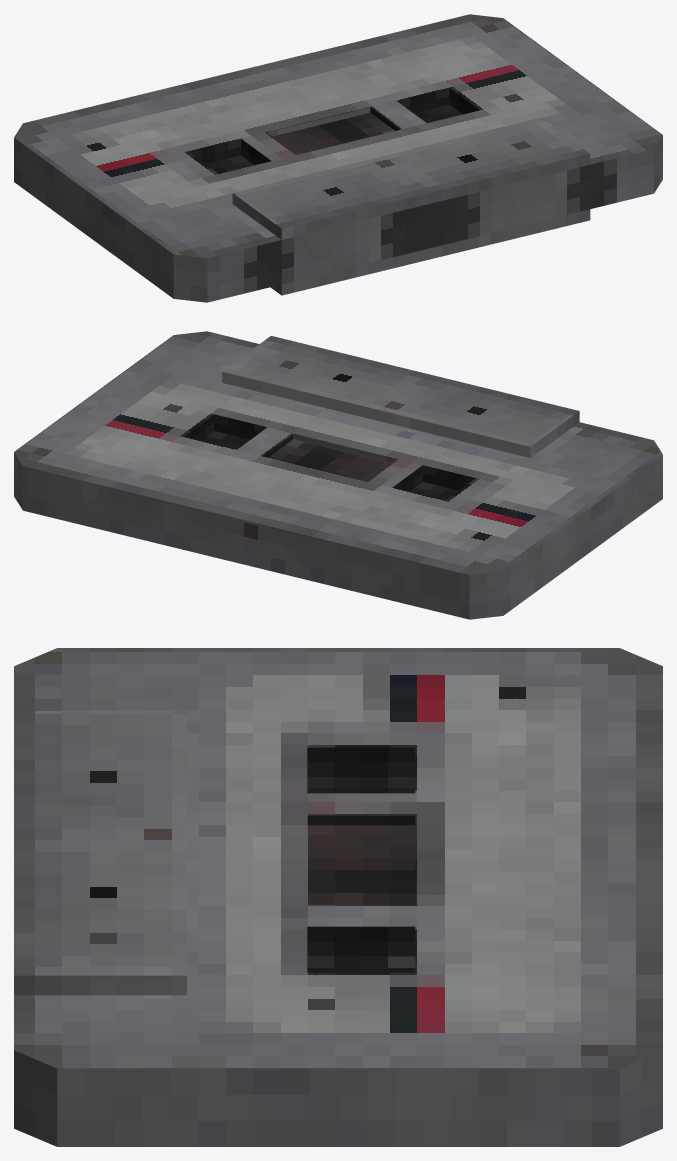
File: cassette_tape_mp_1.obj
3 views of the same model, one above another, from view 1: azimuth 30°, elevation 25°; view 2: azimuth 150°, elevation 25°; view 3: azimuth 270°, elevation 25° (orthographic). The views are drawn at different scales.
Visible parts, largest first — view 1: cassette_tape_mp_1; view 2: cassette_tape_mp_1; view 3: cassette_tape_mp_1.
Part boxes in pixels (bbox=[...]): cassette_tape_mp_1: bbox=[14, 14, 662, 302]; cassette_tape_mp_1: bbox=[14, 331, 662, 619]; cassette_tape_mp_1: bbox=[14, 648, 662, 1146].
Size of the model in its own units: 5.3 by 0.6912 by 3.46.
1 material, 1 textured.
